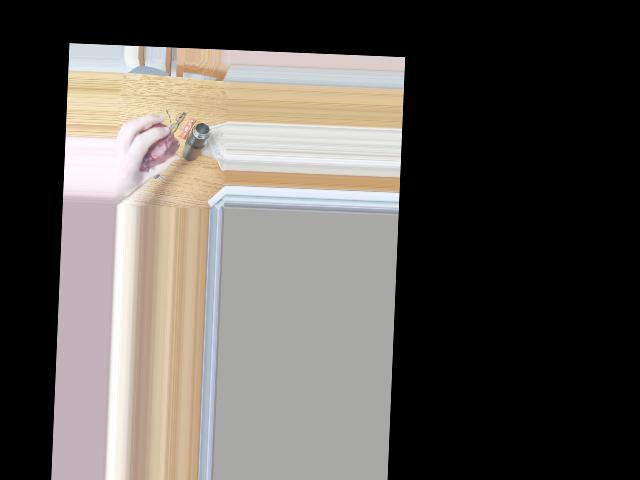onion: (137, 123, 176, 176)
